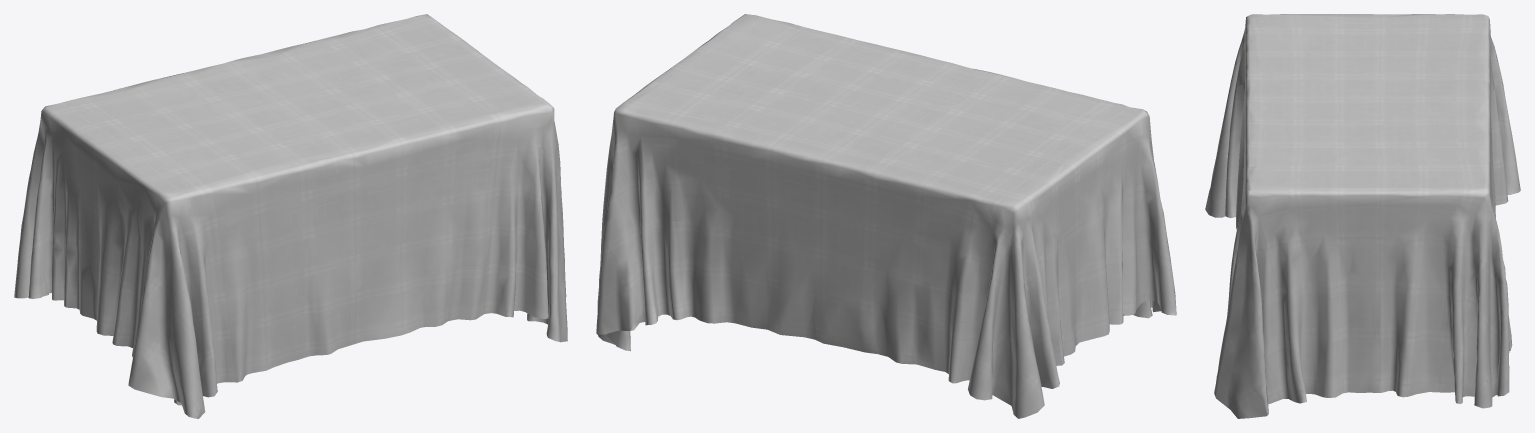
The model's file is cloth.glb.
3 views of the same model, side by side, from view 1: azimuth 30°, elevation 25°; view 2: azimuth 150°, elevation 25°; view 3: azimuth 270°, elevation 25° (orthographic). The views are drawn at different scales.
Visible parts, largest first — view 1: Object_2; view 2: Object_2; view 3: Object_2.
Part boxes in pixels (x1=…): Object_2: x1=14, y1=14, x2=567, y2=418; Object_2: x1=596, y1=14, x2=1176, y2=418; Object_2: x1=1205, y1=14, x2=1520, y2=418.
Bounding box in the file's own units: 1.6 × 0.811 × 1.04.
1 material, 1 textured.
